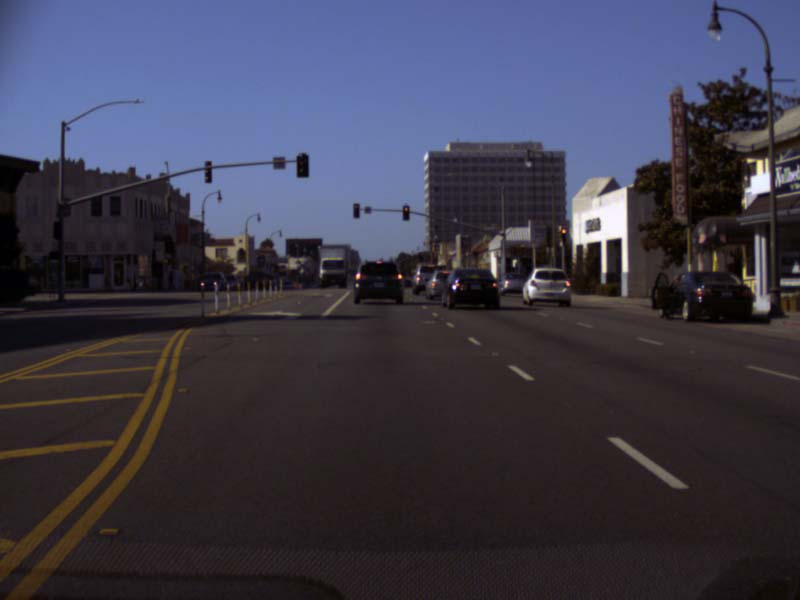Red: (403, 205, 409, 219), (353, 203, 359, 217), (560, 228, 566, 240)
